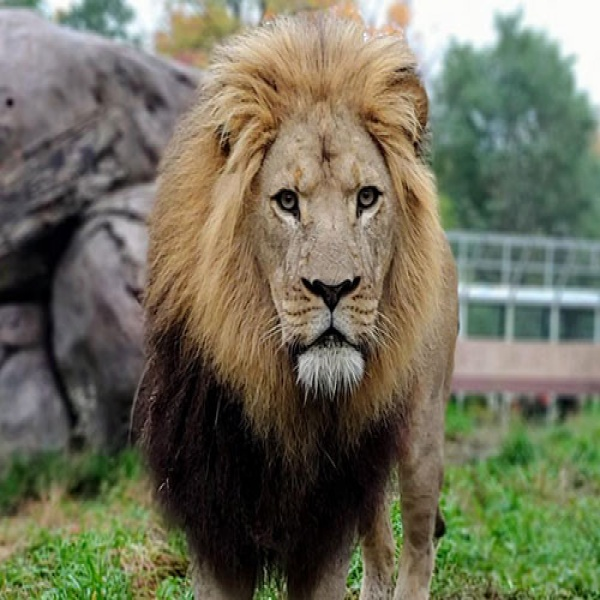Lion: (147, 14, 462, 596)
